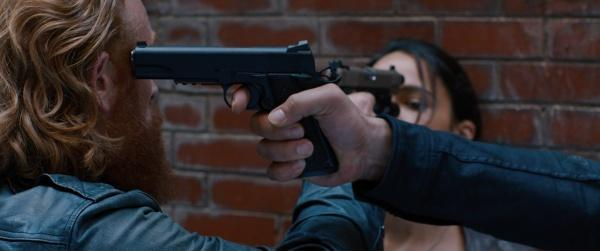Gun: (131, 43, 340, 176), (333, 62, 404, 100)
